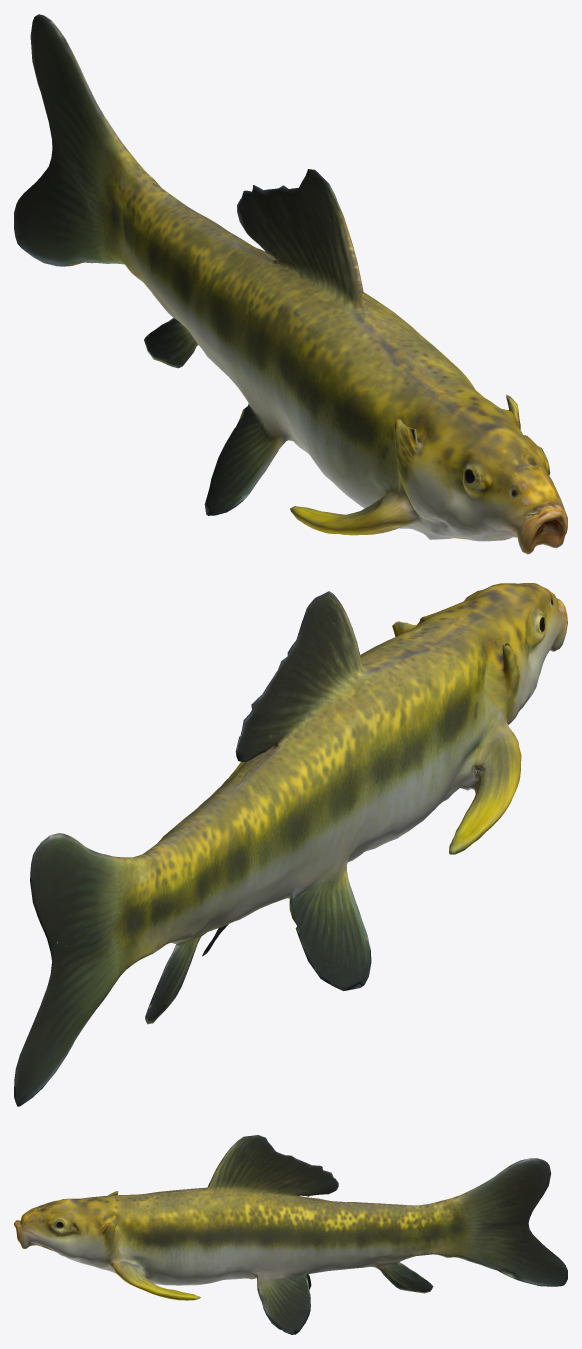
The model's file is cae_0604064157_texture.glb.
3 views of the same model, one above another, from view 1: azimuth 30°, elevation 25°; view 2: azimuth 150°, elevation 25°; view 3: azimuth 270°, elevation 25° (orthographic). The views are drawn at different scales.
Bounding box in the file's own units: 0.3969 × 0.7153 × 1.99.
Materials: 1 (1 with a texture image).
